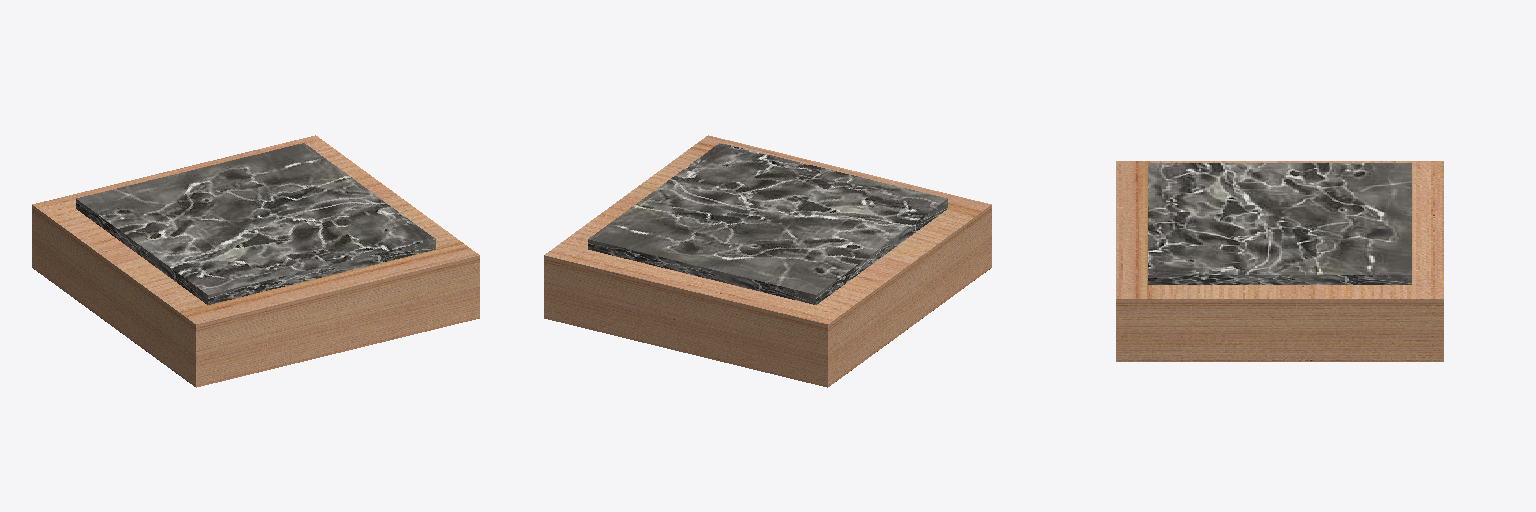
3 views of the same model, side by side, from view 1: azimuth 30°, elevation 25°; view 2: azimuth 150°, elevation 25°; view 3: azimuth 270°, elevation 25° (orthographic).
Visible parts, largest first — view 1: Cube; view 2: Cube; view 3: Cube.
Boxes of the visible parts, box(x1,y1,x2,y2) form: Cube: box(32, 135, 479, 387); Cube: box(544, 135, 991, 387); Cube: box(1116, 161, 1443, 361).
Size of the model in its own units: 16 by 3.99 by 16.
1 materials, 1 textured.